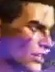kevin: (4, 5, 54, 69)
